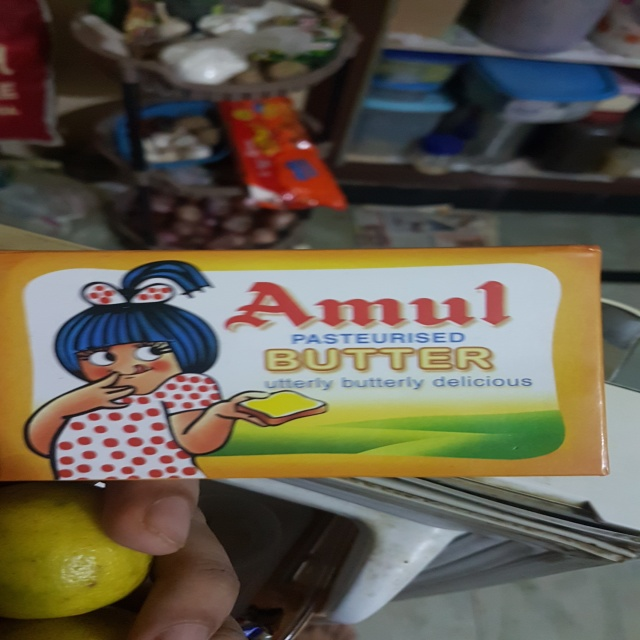butter: (3, 238, 616, 484)
lemon: (1, 491, 178, 628)
